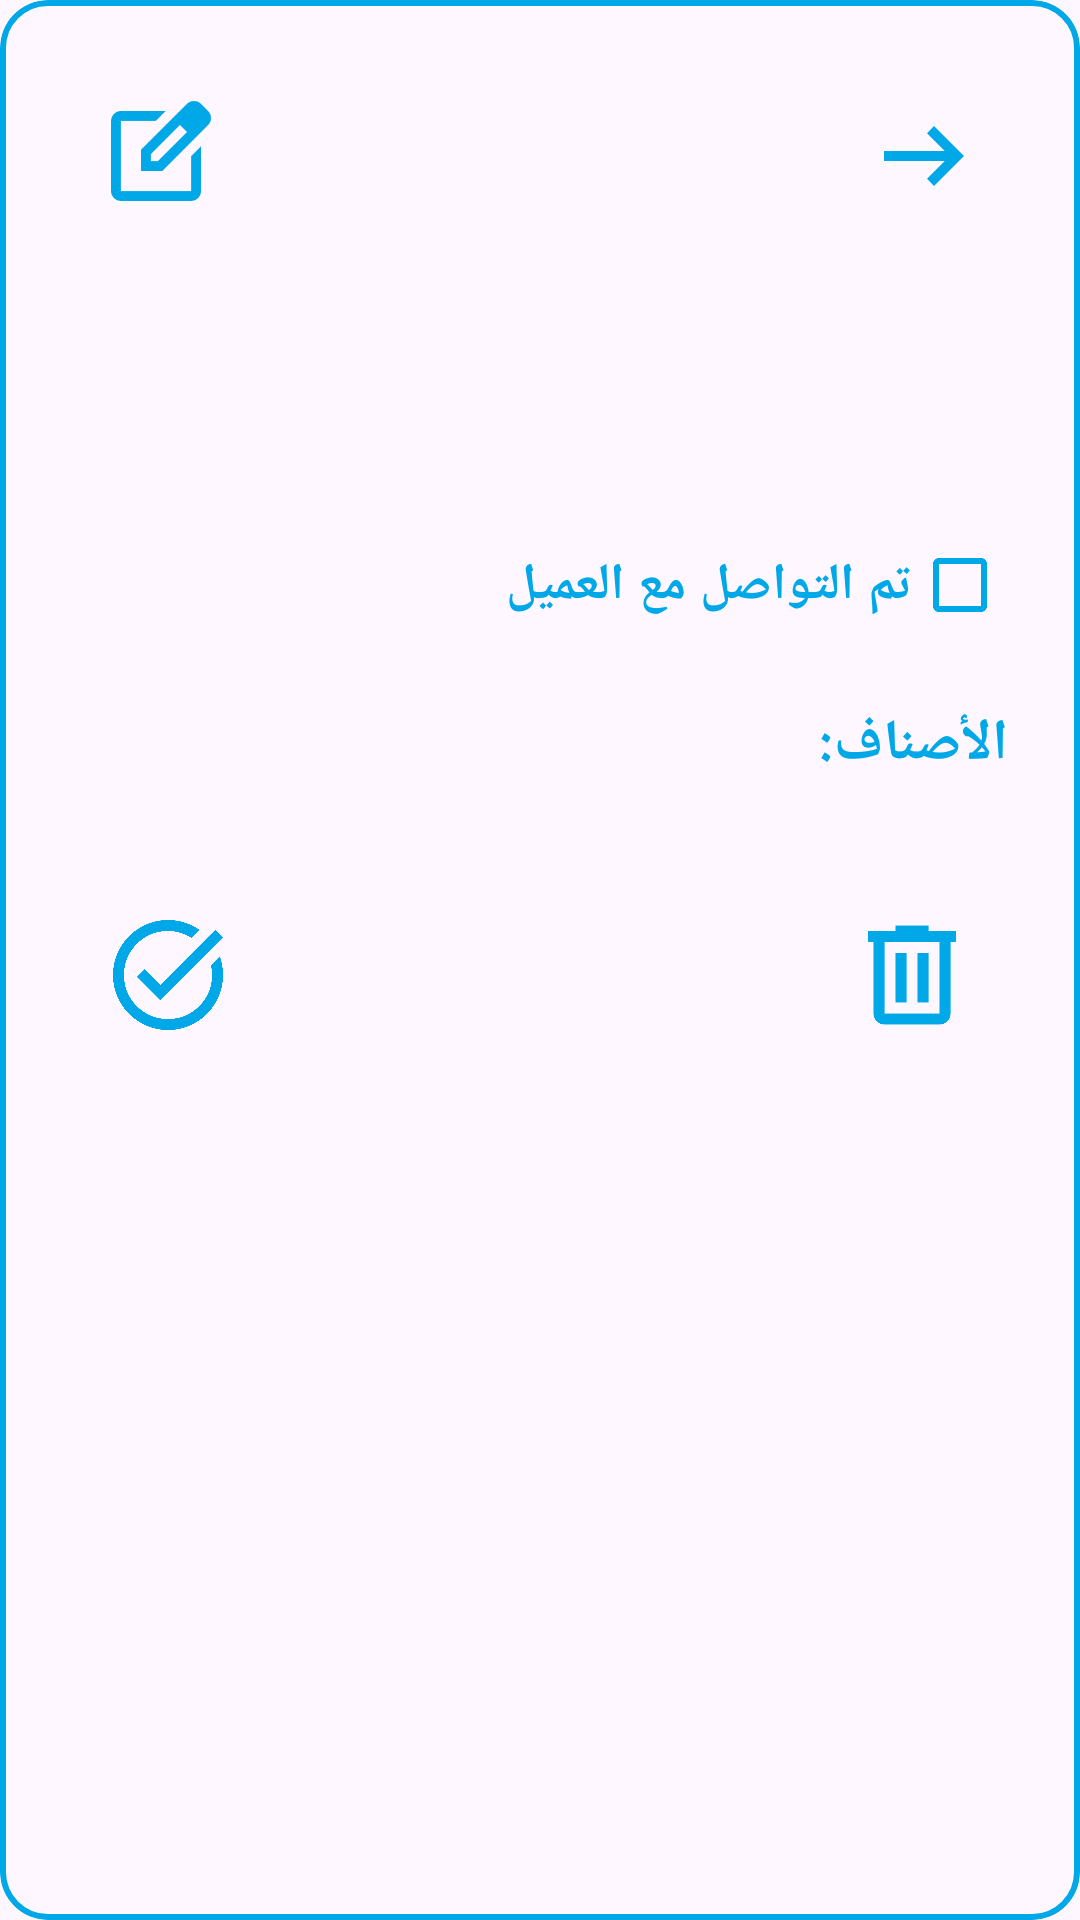

Named icons in this screenshot (1080x1920) and their bounding boxes, bbox=[x1, y1, x2, y2]:
تعديل الأوردر: bbox=[111, 101, 211, 201]
تم الإنجاز: bbox=[113, 920, 223, 1030]
حذف: bbox=[868, 925, 956, 1025]
